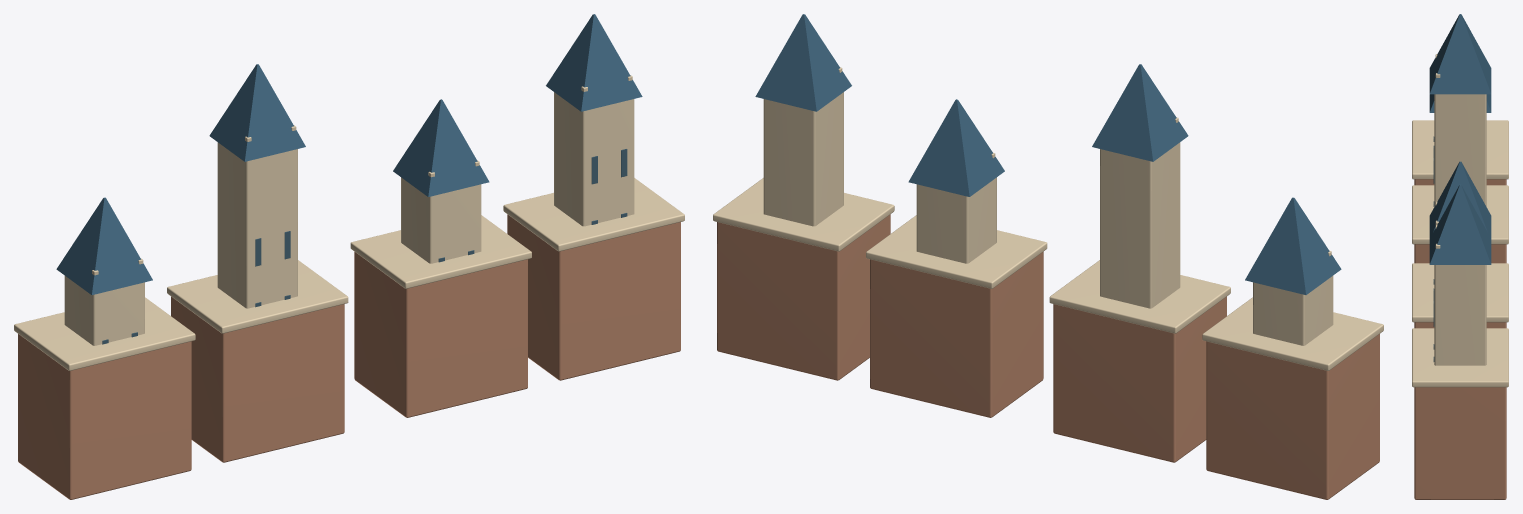
The model's file is AcademicSkyline.fbx.
3 views of the same model, side by side, from view 1: azimuth 30°, elevation 25°; view 2: azimuth 150°, elevation 25°; view 3: azimuth 270°, elevation 25° (orthographic). The views are drawn at different scales.
Visible parts, largest first — view 1: Academic wing.002, Academic wing, Academic wing.001, Academic wing.003, Tower.001, Tower.003, Tower.002, Stone cornice.002, Stone cornice.003, Stone cornice, Stone cornice.001, Slate tower roof.002 (+4 smaller); view 2: Academic wing.002, Academic wing, Academic wing.001, Academic wing.003, Tower.001, Tower.003, Tower.002, Stone cornice.002, Stone cornice.003, Stone cornice, Stone cornice.001, Slate tower roof (+4 smaller); view 3: Academic wing.003, Tower.003, Tower.001, Stone cornice.003, Slate tower roof.001, Slate tower roof.003, Stone cornice, Stone cornice.002, Stone cornice.001, Slate tower roof.002, Academic wing.001, Academic wing (+2 smaller).
Part boxes in pixels (x1,y1,x2,y2): Academic wing.002: (354,252,527,417); Academic wing: (18,334,191,499); Academic wing.001: (171,296,344,462); Academic wing.003: (507,214,680,380); Tower.001: (217,142,297,308); Tower.003: (554,92,634,226); Tower.002: (401,177,481,263); Stone cornice.002: (350,215,531,288); Stone cornice.003: (503,178,684,251); Stone cornice: (14,297,195,370); Stone cornice.001: (167,260,348,333); Slate tower roof.002: (393,99,489,196); Academic wing.002: (870,252,1043,417); Academic wing: (1206,334,1379,499); Academic wing.001: (1053,296,1226,462); Academic wing.003: (717,214,890,380); Tower.001: (1100,142,1180,308); Tower.003: (763,92,843,226); Tower.002: (916,177,996,263); Stone cornice.002: (866,215,1047,288); Stone cornice.003: (713,178,894,251); Stone cornice: (1202,297,1383,370); Stone cornice.001: (1049,260,1230,333); Slate tower roof: (1245,197,1341,294); Academic wing.003: (1414,387,1506,499); Tower.003: (1434,265,1486,365); Tower.001: (1434,94,1486,206); Stone cornice.003: (1412,328,1508,387); Slate tower roof.001: (1429,14,1491,94); Slate tower roof.003: (1429,184,1491,264); Stone cornice: (1412,120,1508,179); Stone cornice.002: (1412,263,1508,322); Stone cornice.001: (1412,185,1508,244); Slate tower roof.002: (1429,161,1491,238); Academic wing.001: (1414,244,1506,263); Academic wing: (1414,179,1506,185).
Size of the model in its own units: 20.15 by 11.4 by 3.15.
